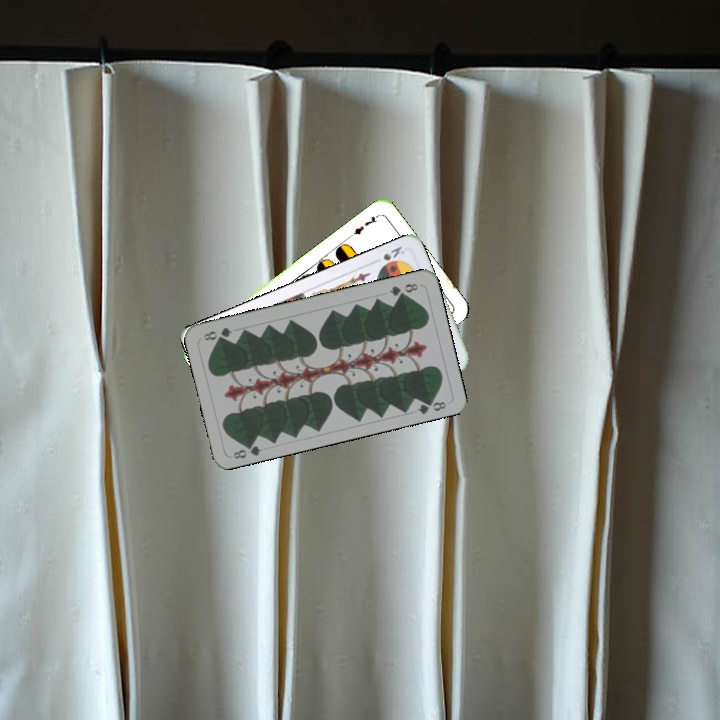E7: (347, 211, 382, 240)
G8: (229, 438, 264, 462), (385, 279, 421, 299)
SK: (379, 242, 407, 263)
